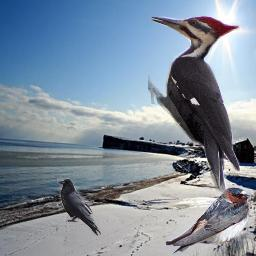Crow: (57, 178, 102, 236)
Swallow: (166, 187, 250, 255)
Woodpecker: (148, 16, 242, 196)
